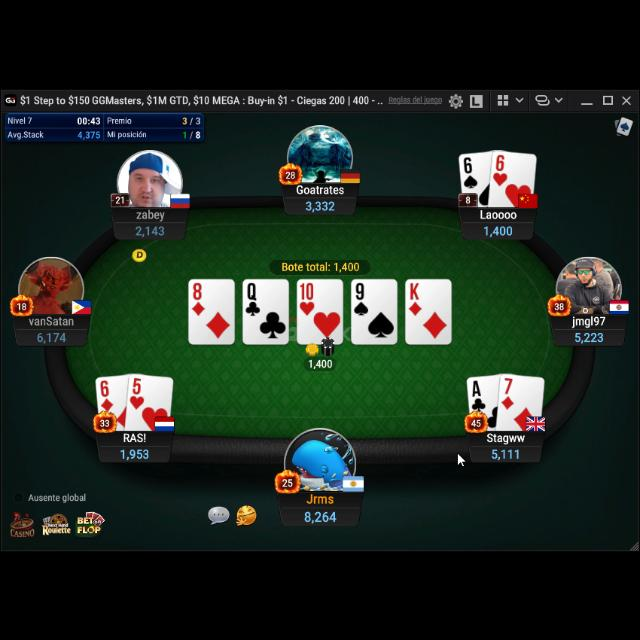5h: (128, 374, 146, 410)
6d: (100, 378, 114, 414)
6h: (492, 152, 508, 186)
6s: (462, 154, 478, 190)
7d: (499, 376, 515, 410)
8d: (190, 280, 206, 318)
9s: (352, 281, 370, 317)
Ac: (470, 378, 488, 414)
Ks: (408, 281, 422, 317)
Qc: (245, 279, 261, 317)
Th: (299, 282, 315, 316)
bet_text: (308, 356, 334, 369)
dealer: (131, 246, 149, 264)
pot_text: (280, 260, 360, 272)
stack_text: (302, 508, 338, 524), (482, 224, 516, 238), (36, 329, 68, 343), (120, 446, 152, 460), (491, 446, 522, 460), (573, 330, 607, 342), (133, 224, 167, 236), (304, 200, 336, 212)
